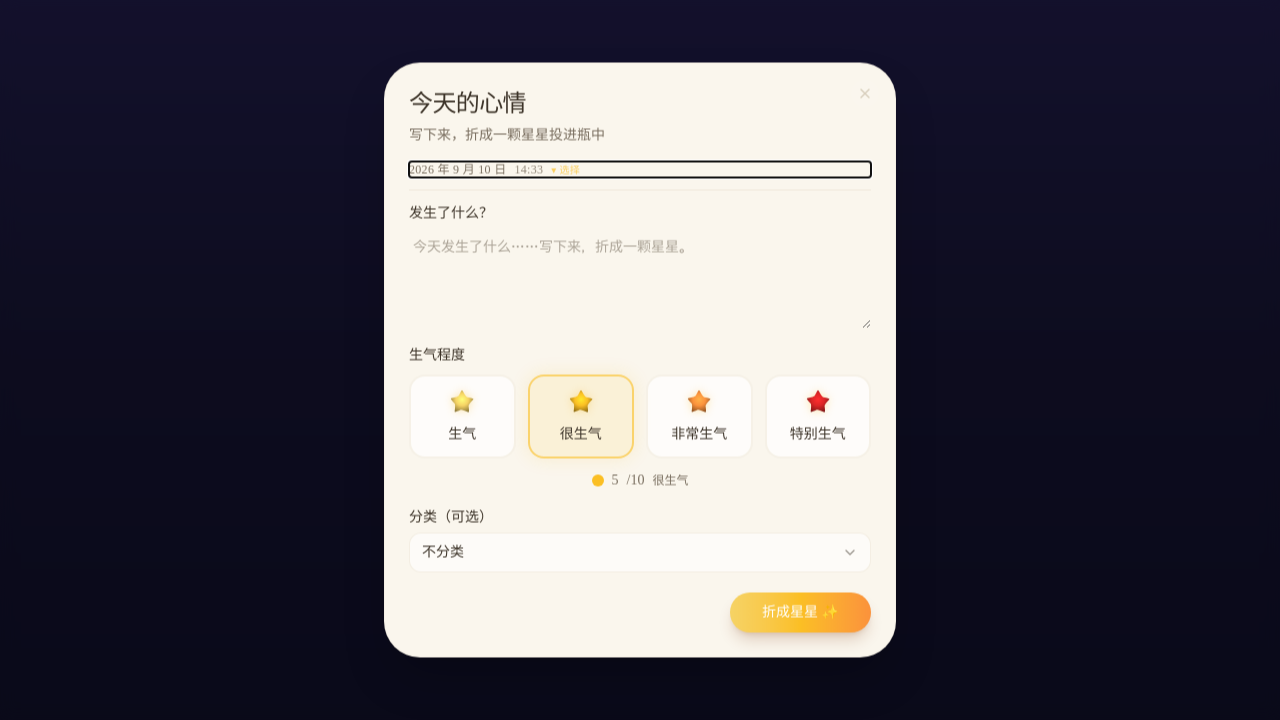
LogFormDialog › 点击时间可打开时间选择弹窗
The width and height of the screenshot is (1280, 720).
Click the button with test id "log-form-date" at (458, 170), box [409,162,871,178]
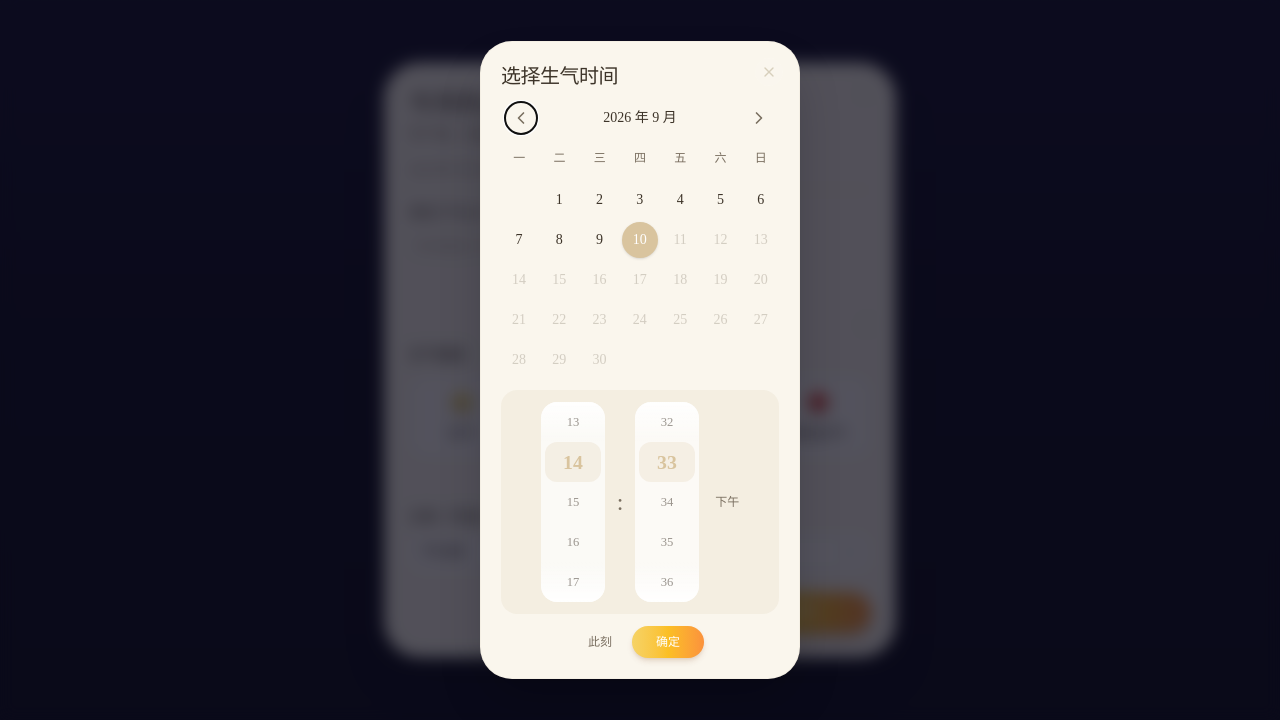
Check: the heading "选择生气时间" is shown, box [501,65,618,87]
Check: the element with test id "dtp-grid" is shown, box [501,182,779,378]
Check: the button with test id "dtp-confirm" is shown, box [632,626,704,658]
